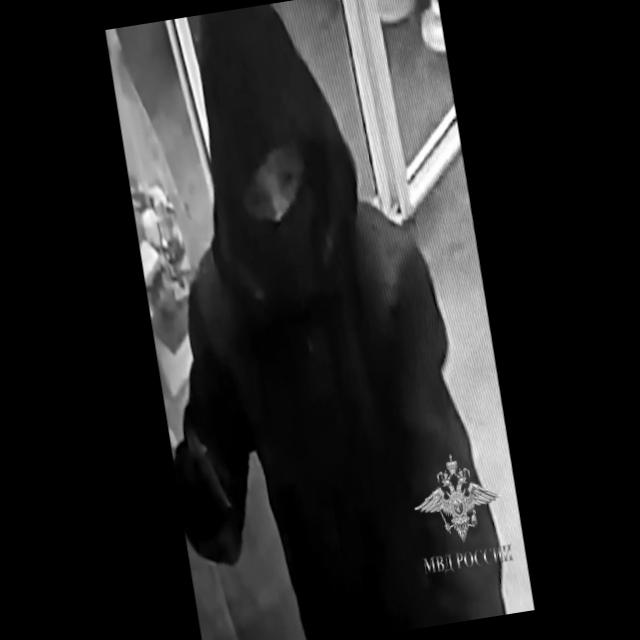gun: (180, 427, 245, 564)
person with a gun: (103, 0, 490, 640)
